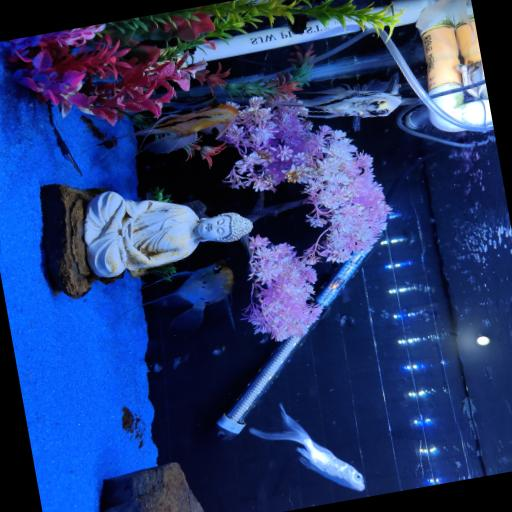Fish: (249, 404, 364, 490), (97, 103, 237, 152), (284, 72, 401, 129), (143, 260, 233, 332), (415, 0, 470, 30)
